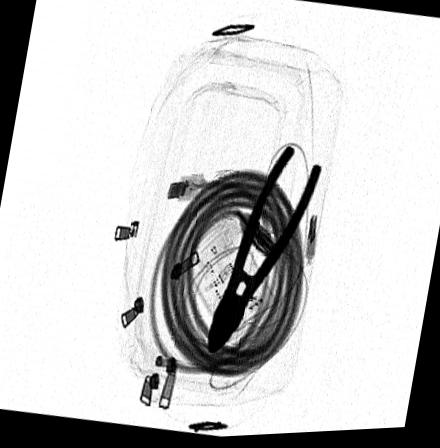Pliers: (205, 142, 324, 356)
